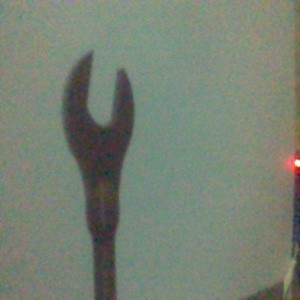spanner: (61, 51, 135, 300)
